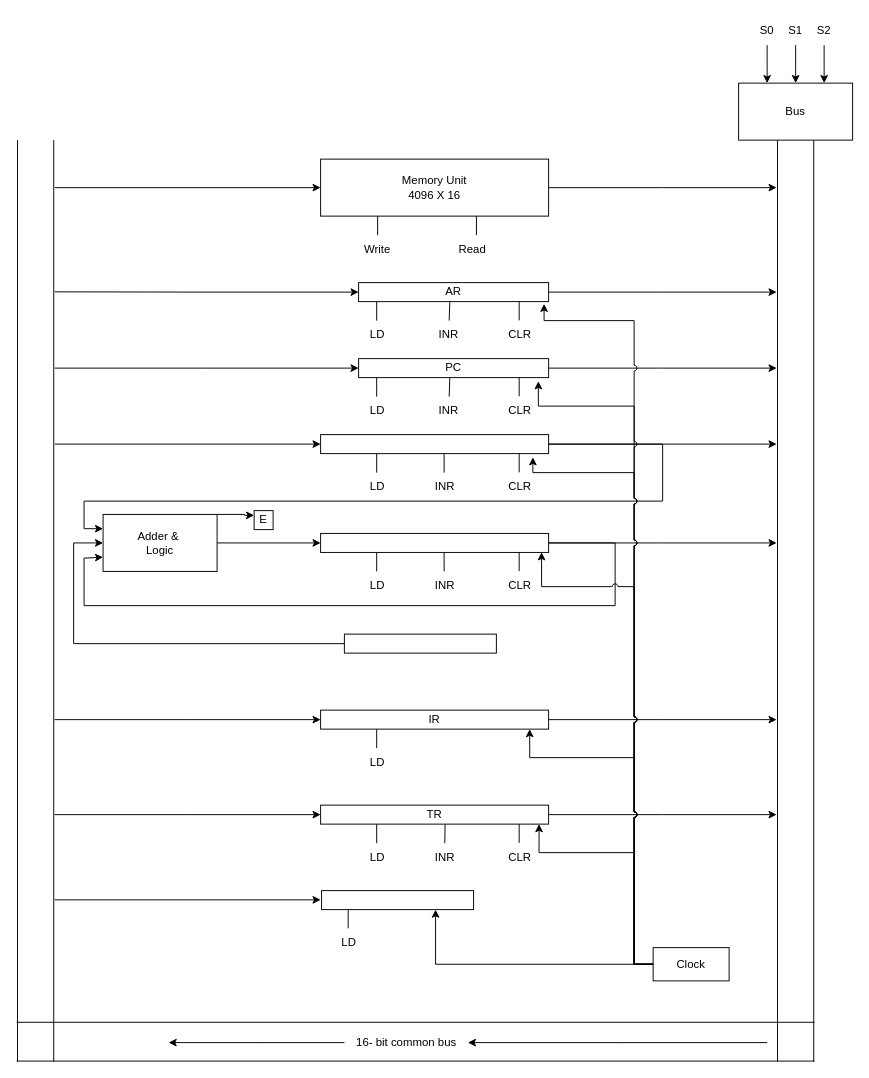
The diagram is 869 pixels wide and 1078 high, and some of its shapes have lost their labels. Here are the shapes that lost their labels. From the top down, the centre of each, then its label:
the point at 434,444: DR
the point at 434,542: AC
the point at 419,643: INPR
the point at 397,900: OUTR
